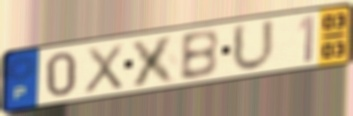0: (43, 50, 80, 98)
1: (297, 13, 315, 65)
B: (178, 27, 221, 83)
U: (230, 17, 277, 74)
X: (129, 32, 180, 89), (82, 41, 125, 96)
